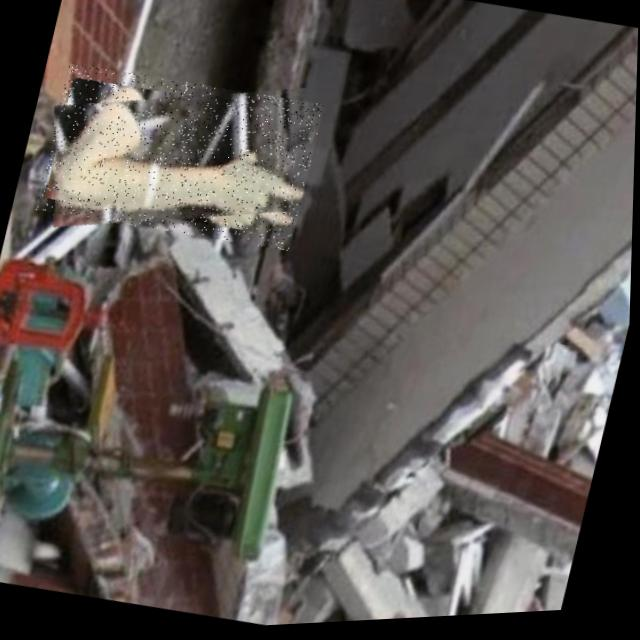Person in Rubble: (33, 53, 324, 264)
